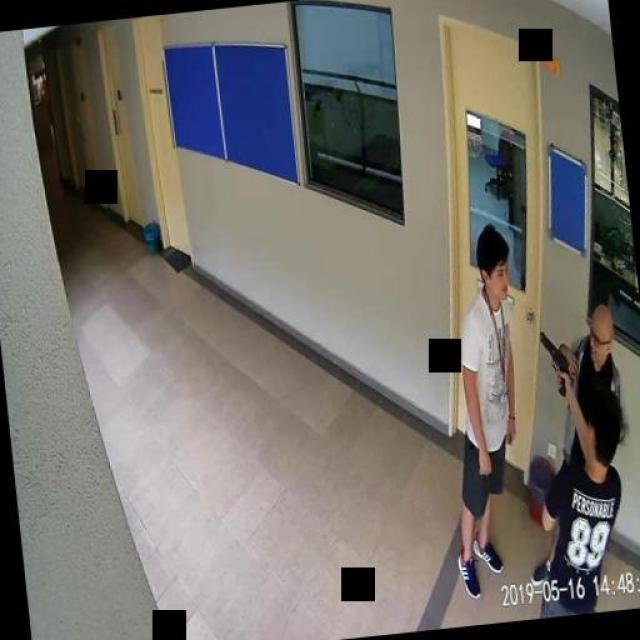gun: (539, 329, 571, 399)
